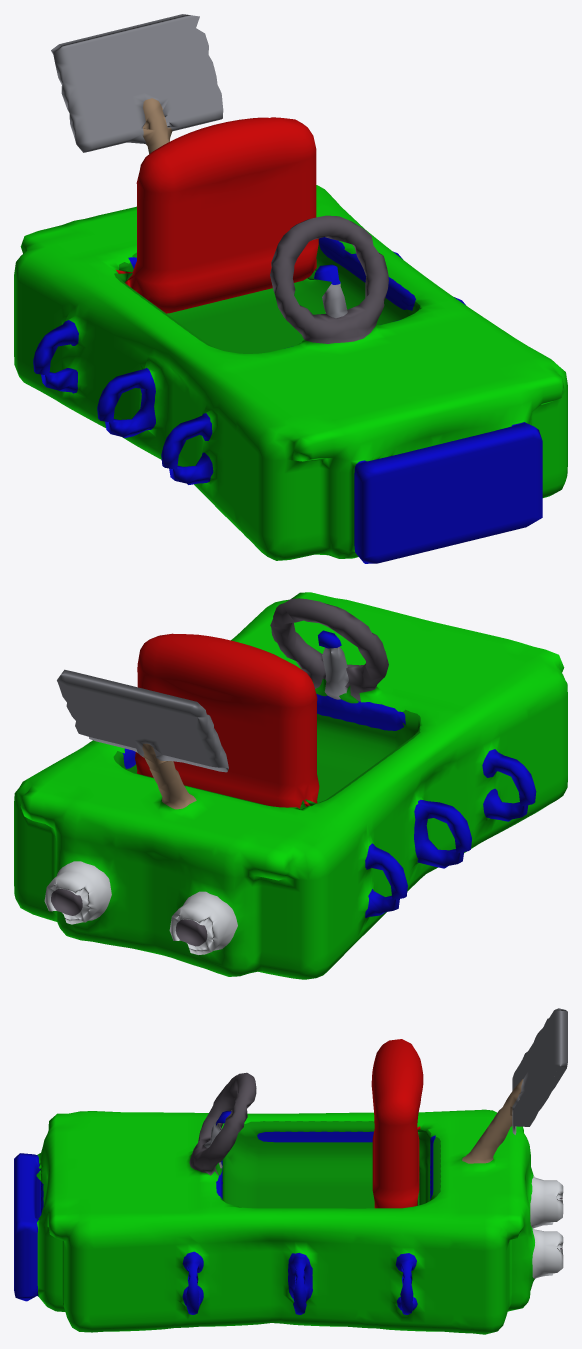
The model's file is body_coffin.glb.
3 renders of one model, top to bottom at view 1: azimuth 30°, elevation 25°; view 2: azimuth 150°, elevation 25°; view 3: azimuth 270°, elevation 25°, orthographic. The views are drawn at different scales.
Parts seen in each view (by area): view 1: body_coffin; view 2: body_coffin; view 3: body_coffin.
Boxes of the visible parts, left/top/right/bottom form: body_coffin: left=14, top=14, right=567, bottom=563; body_coffin: left=14, top=592, right=567, bottom=979; body_coffin: left=14, top=1008, right=567, bottom=1334.
Size of the model in its own units: 26.6 by 19.93 by 41.49.
